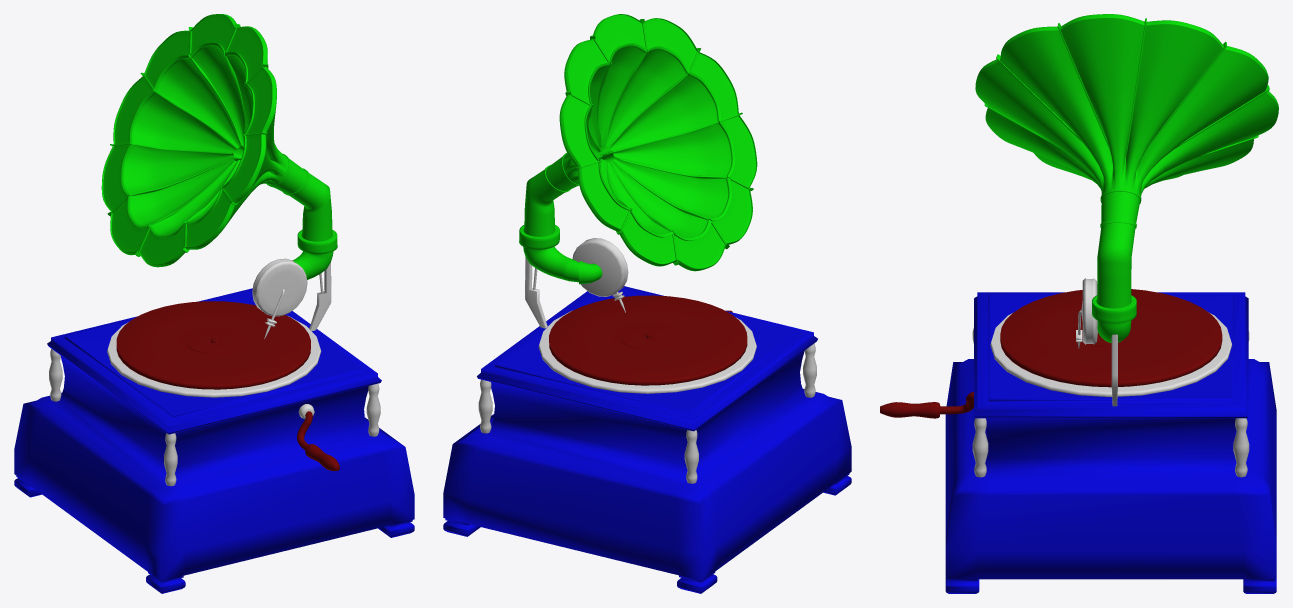
Rendered from NewGrammophone.fbx.
3 renders of one model, left to right at view 1: azimuth 30°, elevation 25°; view 2: azimuth 150°, elevation 25°; view 3: azimuth 270°, elevation 25°, orthographic. The views are drawn at different scales.
Parts seen in each view (by area): view 1: null1; view 2: null1; view 3: null1.
Boxes of the visible parts, box(x1,y1,x2,y2) form: null1: box(14, 14, 414, 593); null1: box(443, 14, 851, 593); null1: box(880, 14, 1278, 593).
Bounding box in the file's own units: 20.05 × 35.6 × 24.16.
